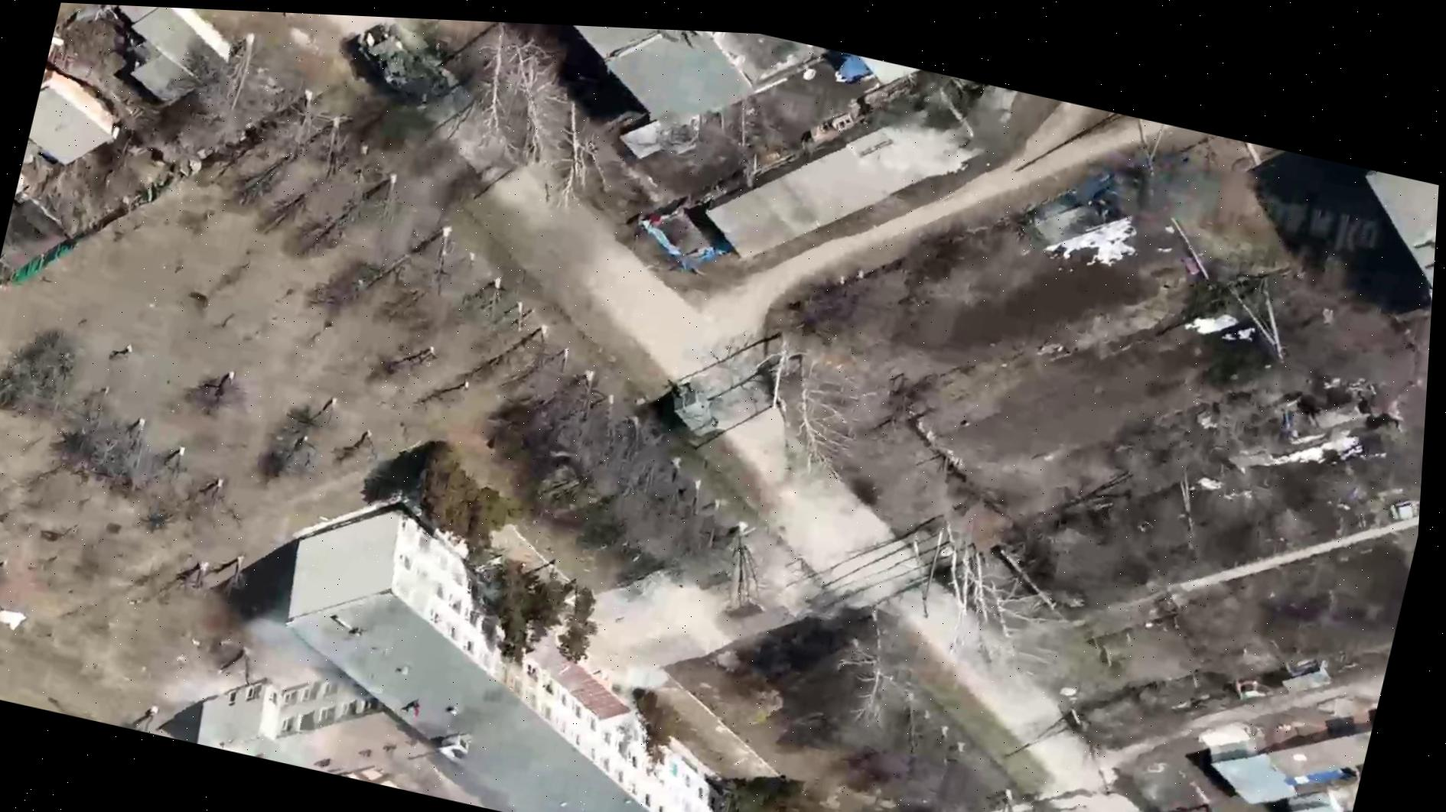tank: (344, 16, 469, 118)
